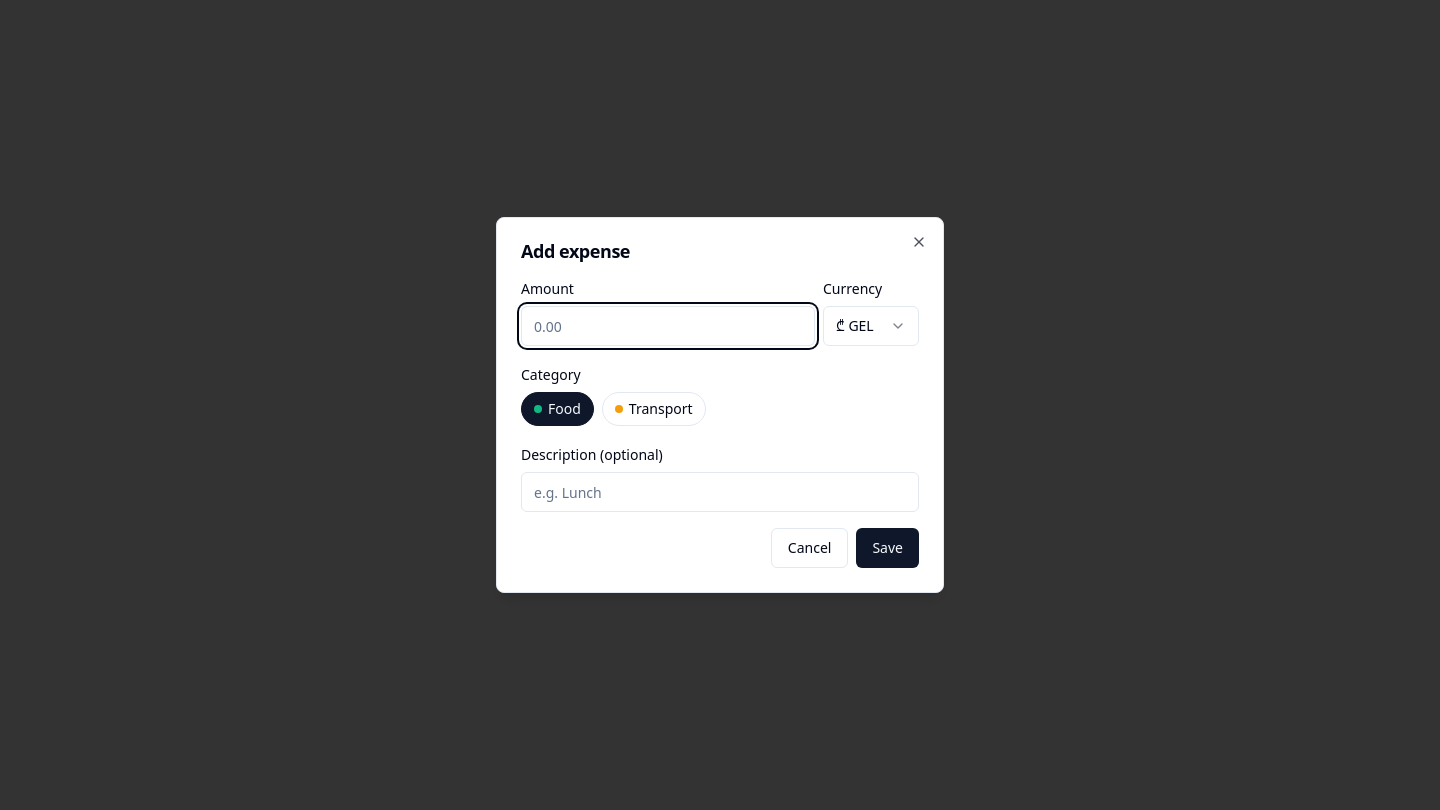
Scenario: QuickAddExpenseDialog › shows a validation error for an empty amount and does not submit
This screenshot has width=1440, height=810.
What coordinates should you click on to do the following:
click the button "Save"
I would click on:
 (888, 548)
Its box is [856,528,919,568].
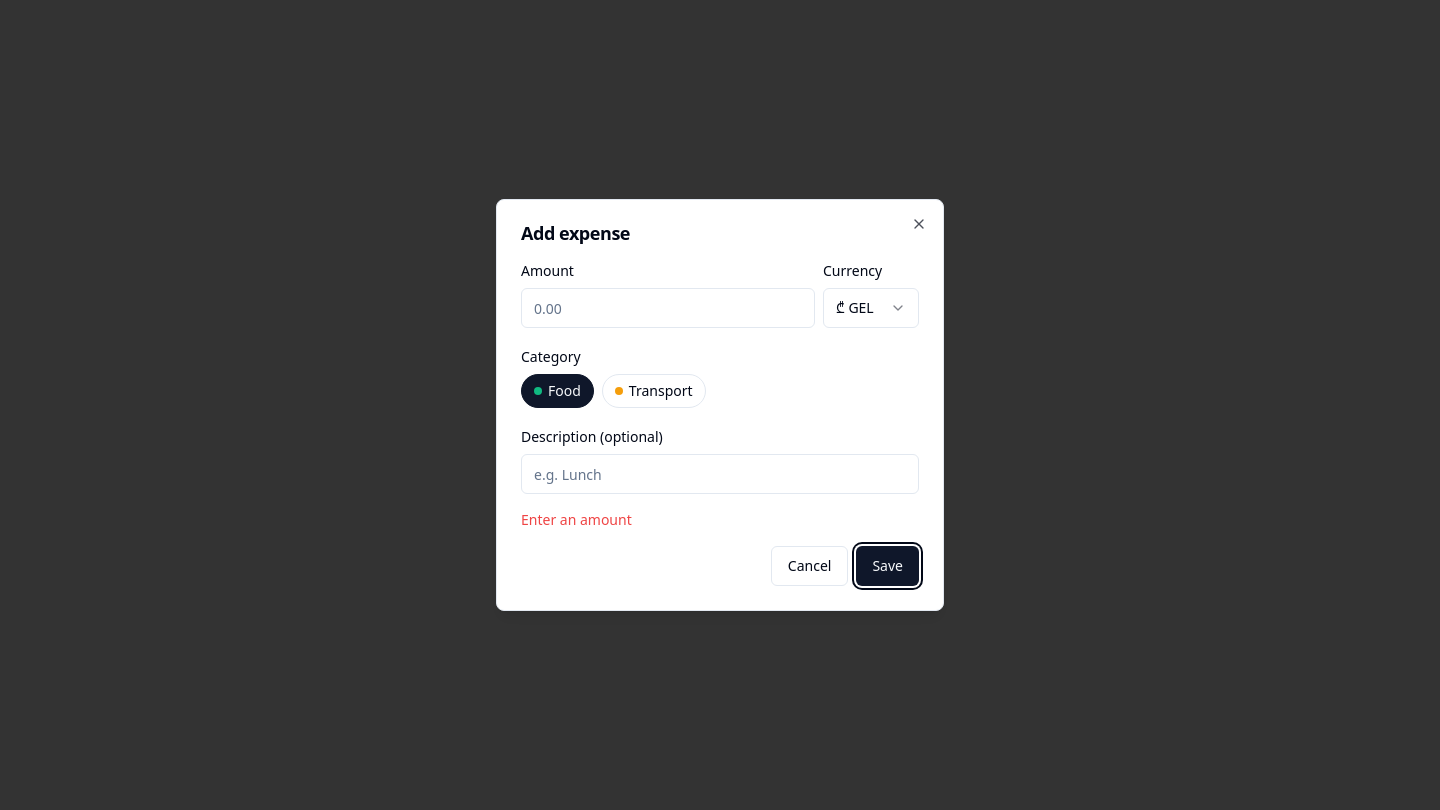
Expected: the message reads "Enter an amount", [521,510,632,529]
